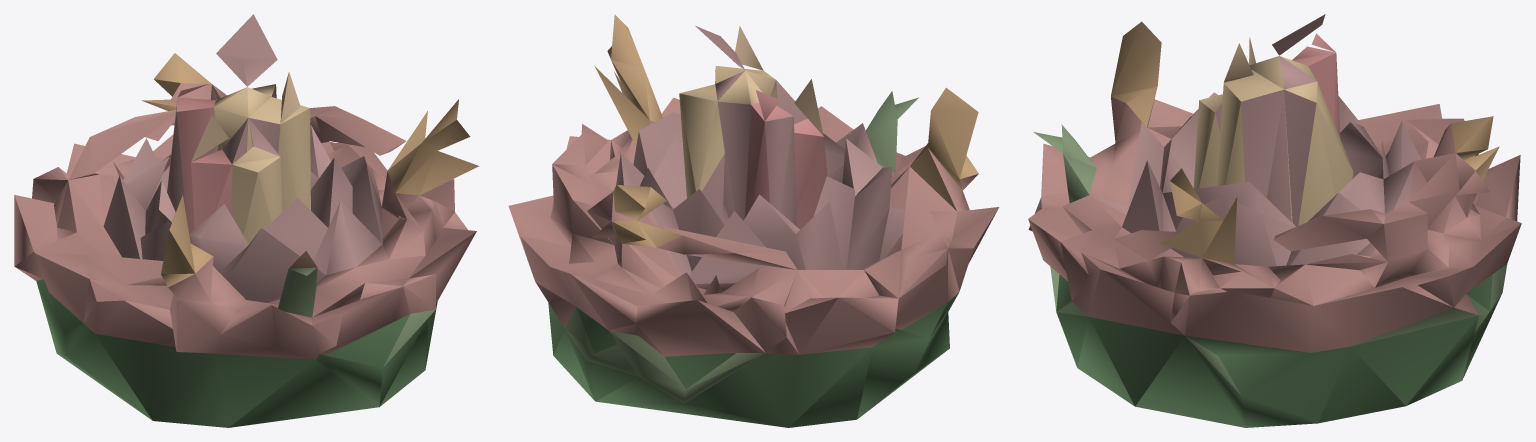
The model's file is naga_01.low.glb.
3 renders of one model, left to right at view 1: azimuth 30°, elevation 25°; view 2: azimuth 150°, elevation 25°; view 3: azimuth 270°, elevation 25°, orthographic. The views are drawn at different scales.
Size of the model in its own units: 2.14 by 1.68 by 2.15.
